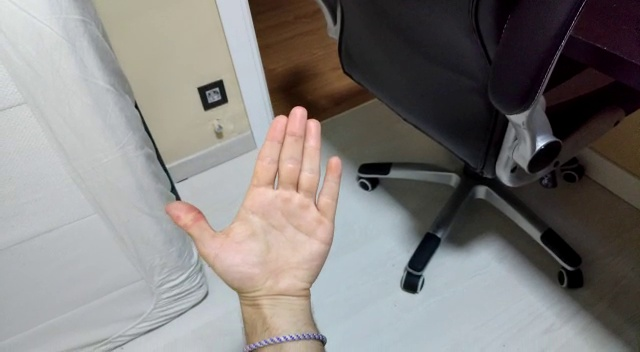Palm: (163, 105, 346, 321)
